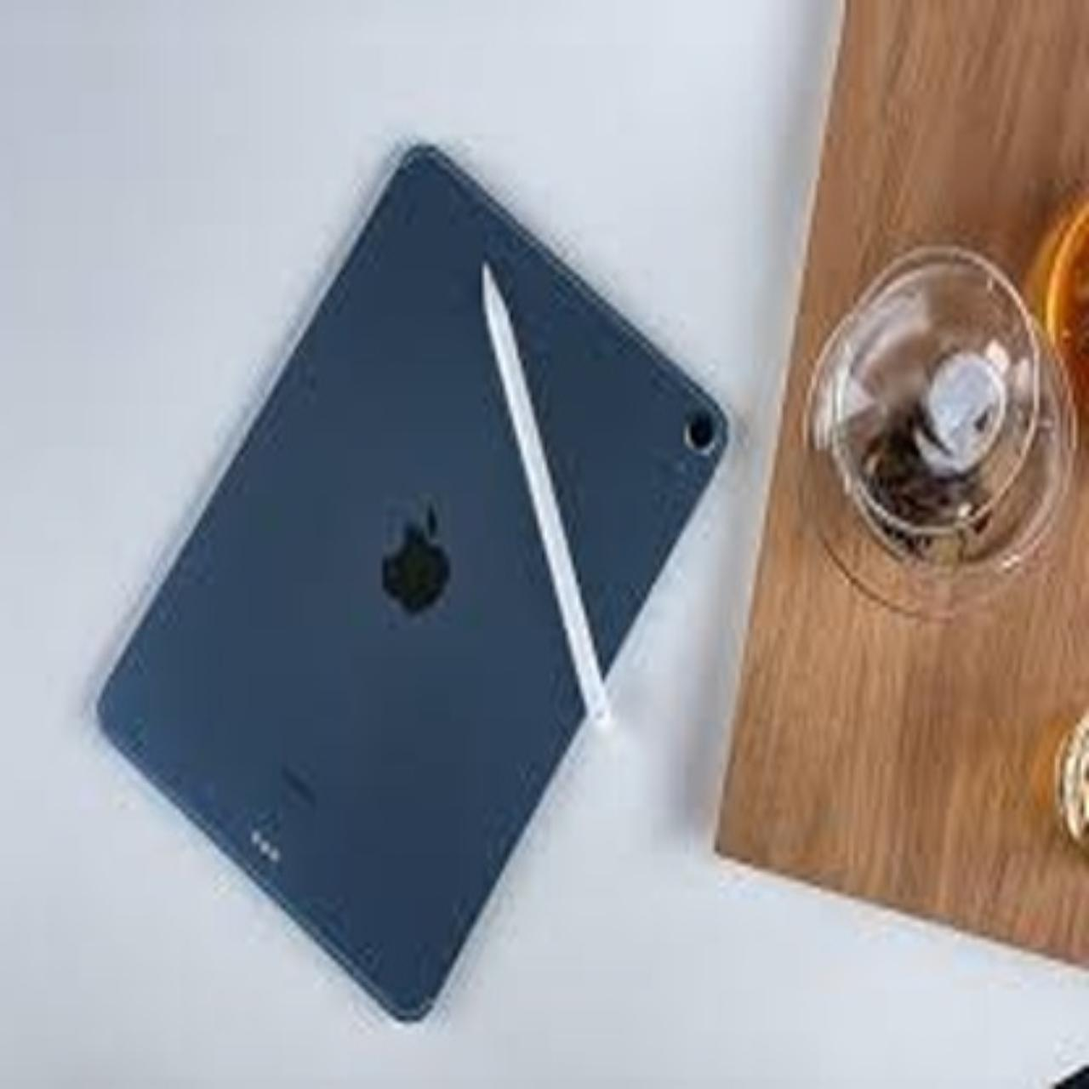Tablet_PC: (68, 131, 738, 1039)
